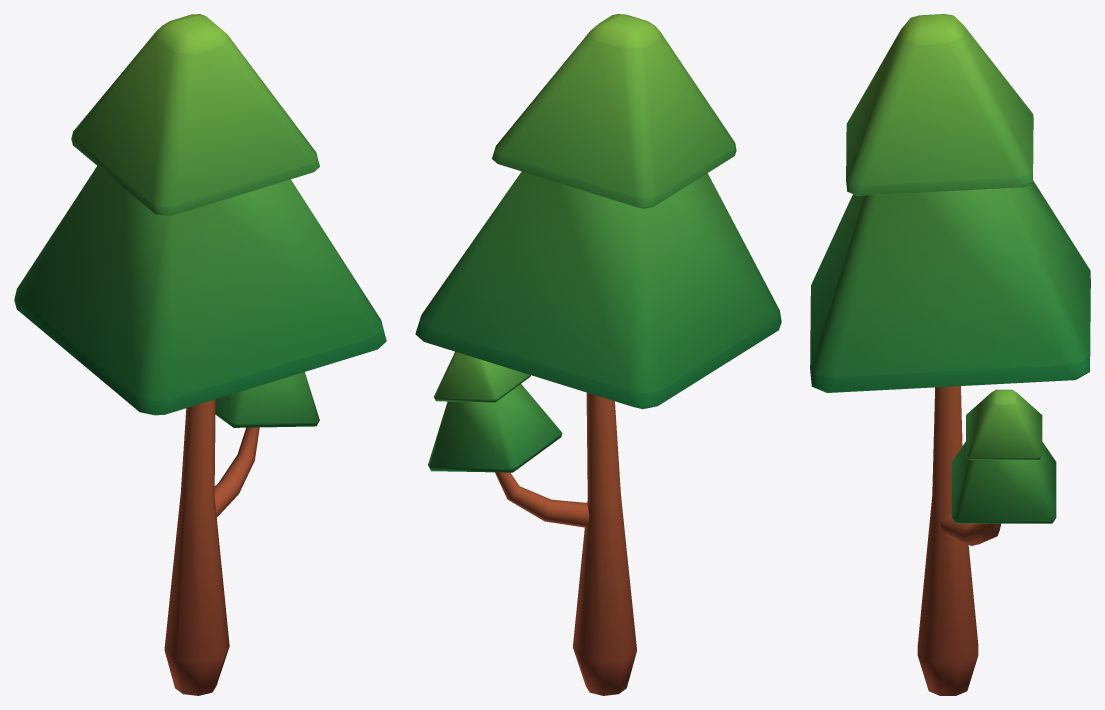
The model's file is Tree_4_A_Color1.glb.
The picture shows the model from 3 angles, left to right: view 1: azimuth 30°, elevation 25°; view 2: azimuth 150°, elevation 25°; view 3: azimuth 270°, elevation 25°; orthographic projection.
Parts seen in each view (by area): view 1: Tree_4_A_Color1; view 2: Tree_4_A_Color1; view 3: Tree_4_A_Color1.
Boxes of the visible parts, x1=… form: Tree_4_A_Color1: x1=14, y1=14, x2=386, y2=695; Tree_4_A_Color1: x1=415, y1=14, x2=781, y2=695; Tree_4_A_Color1: x1=810, y1=14, x2=1090, y2=695.
Bounding box in the file's own units: 2.01 × 5.27 × 2.
Materials: 1 (1 with a texture image).
